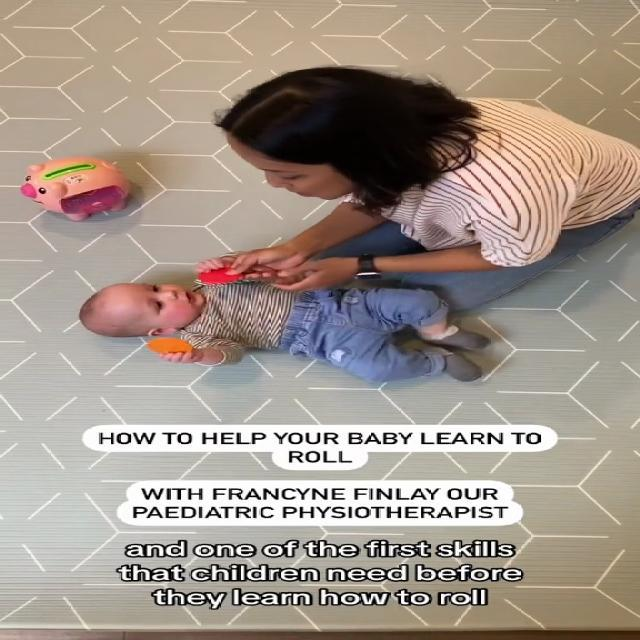baby: (74, 255, 494, 394)
